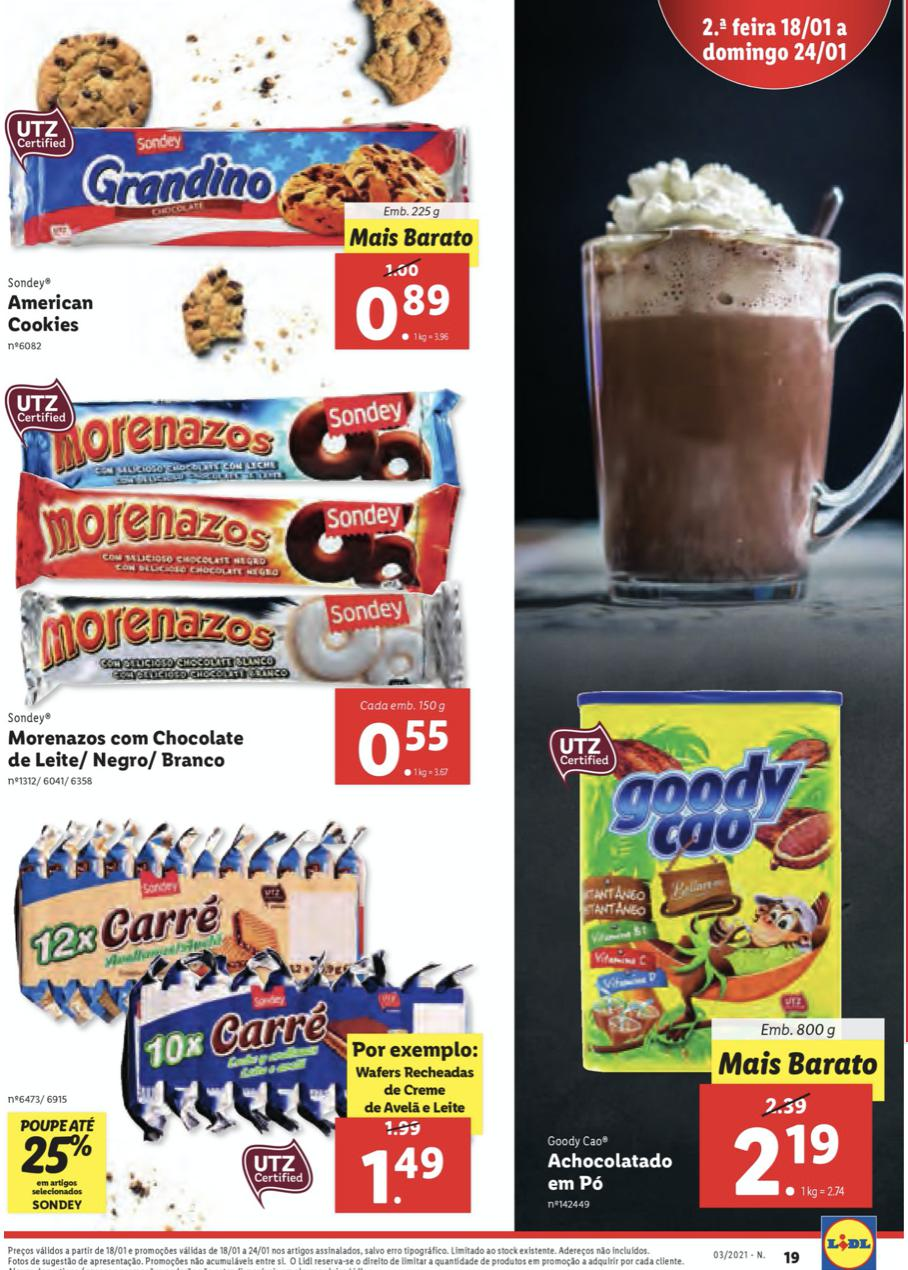name: (8, 729, 246, 773), (544, 1150, 674, 1196), (5, 292, 100, 339)
price: (727, 1121, 844, 1201), (355, 281, 455, 345), (357, 715, 452, 778), (358, 1143, 442, 1206)
product: (4, 379, 499, 793), (7, 811, 494, 1226), (533, 678, 886, 1214), (4, 107, 479, 367)
promotion: (18, 1132, 96, 1178)
